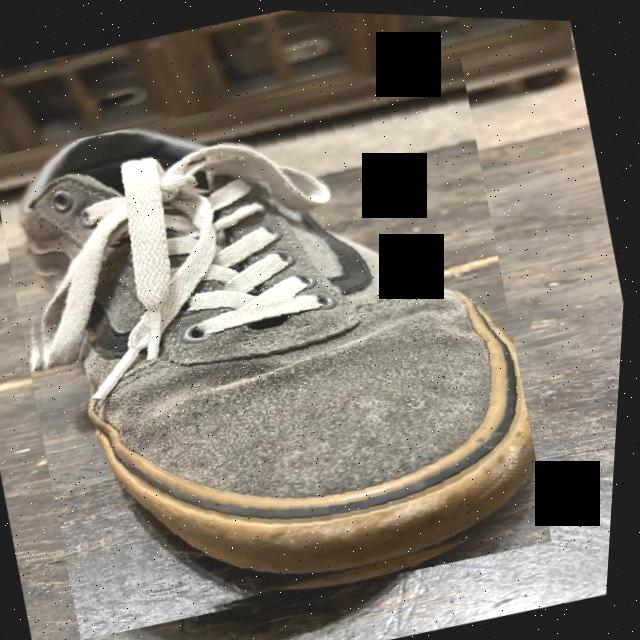shoe: (0, 41, 580, 640)
